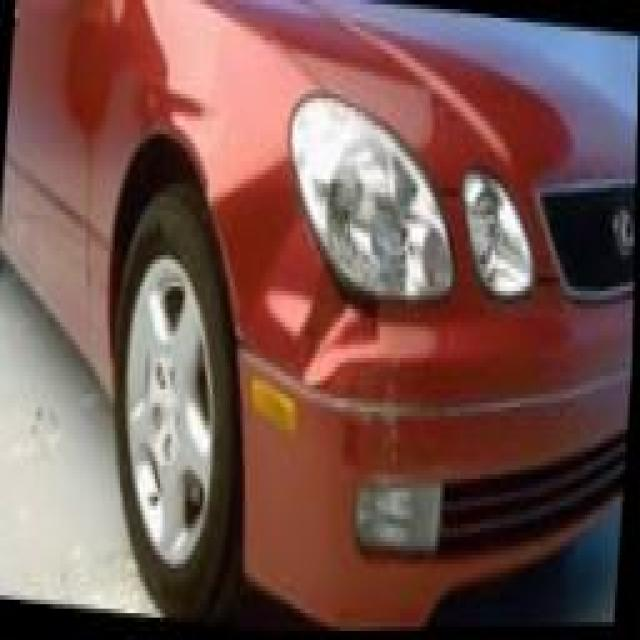Fender: (204, 169, 414, 404)
